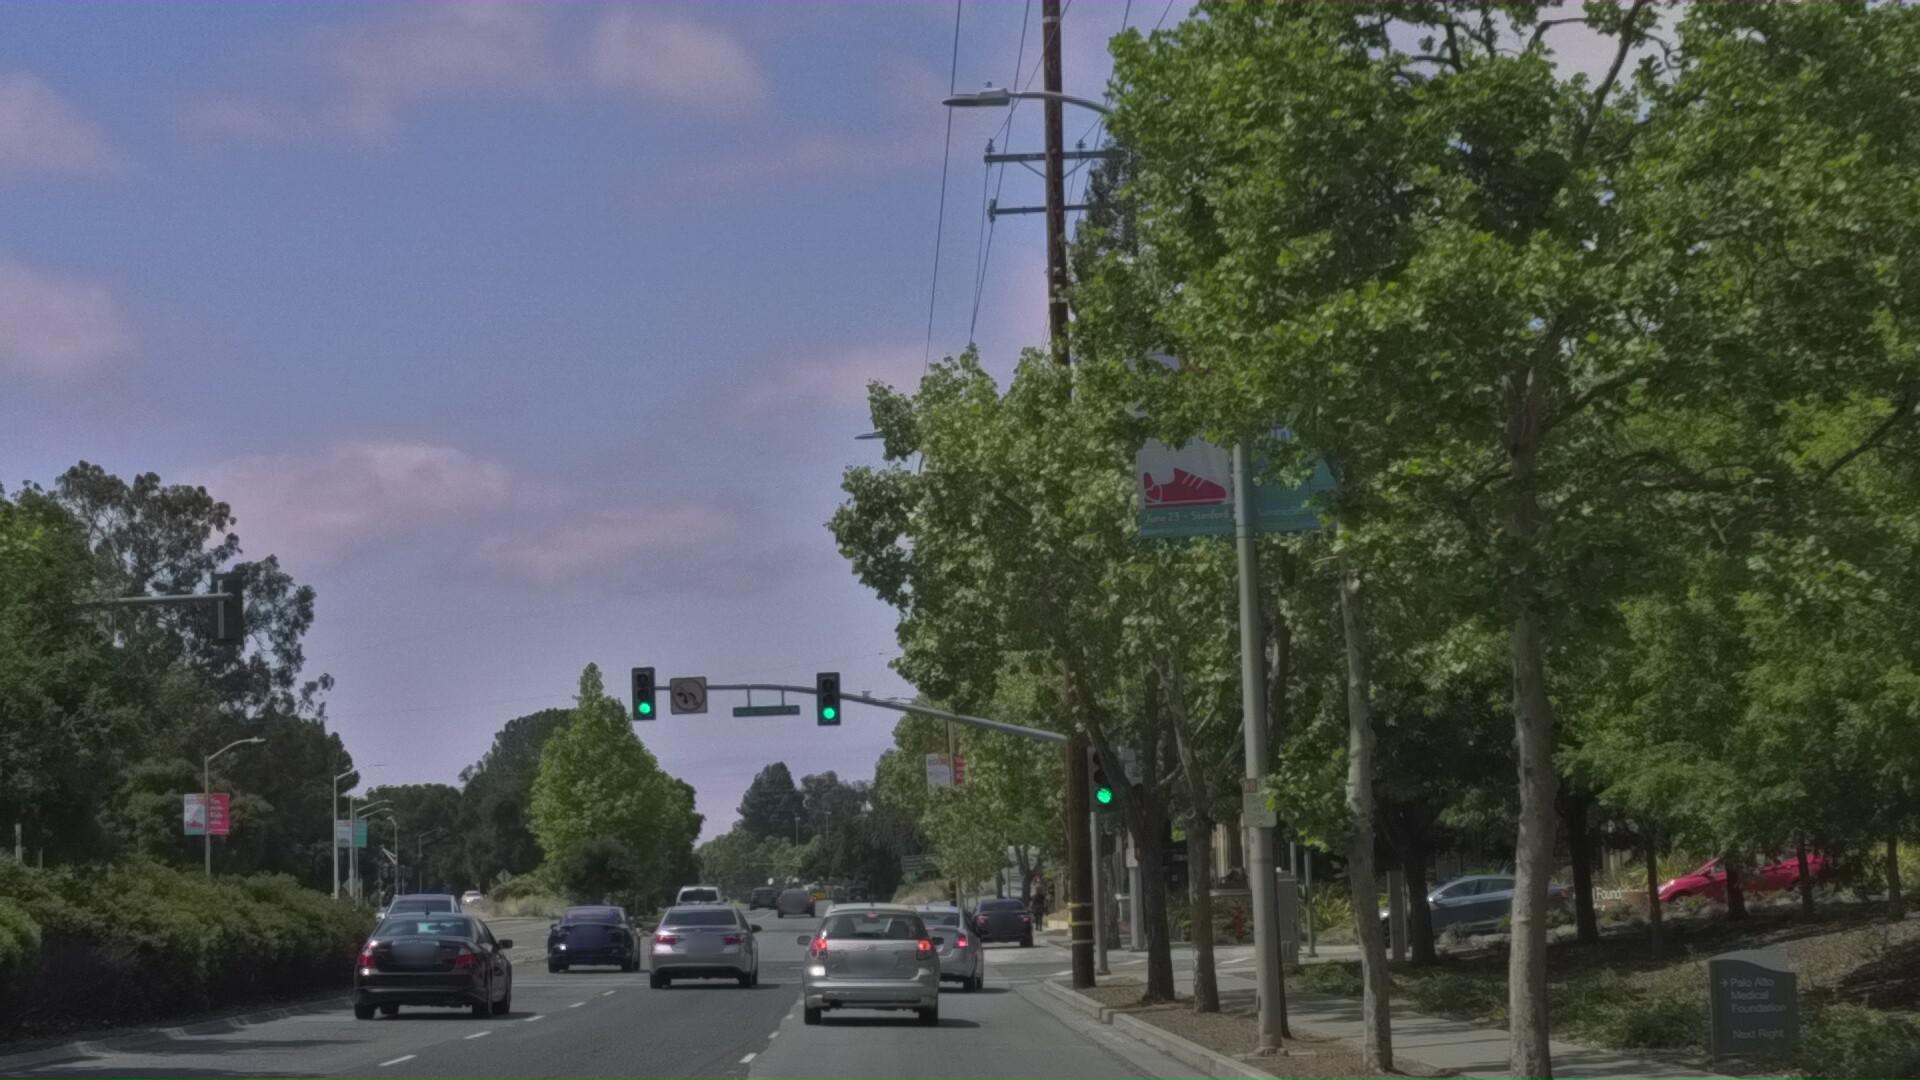car: (1352, 961, 1578, 1044), (1644, 936, 1855, 1015), (787, 982, 953, 1080), (326, 1001, 524, 1080), (640, 996, 766, 1080), (894, 1000, 1015, 1080), (545, 1004, 647, 1077)
